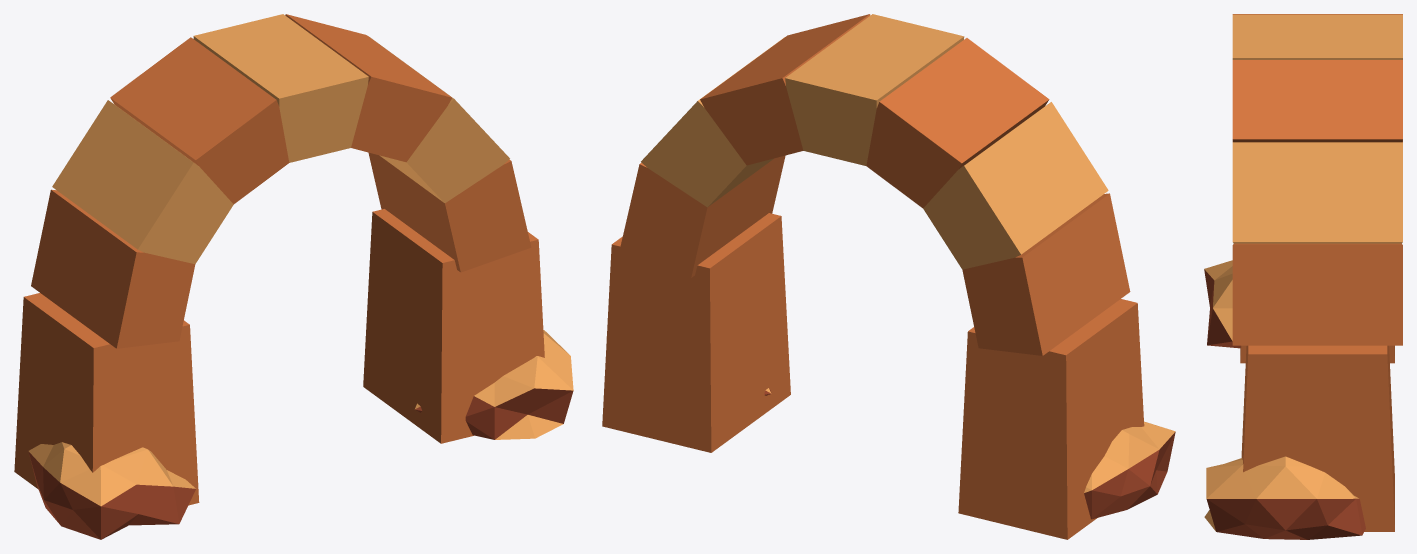
File: CA_Arco_Roca.obj
3 renders of one model, left to right at view 1: azimuth 30°, elevation 25°; view 2: azimuth 150°, elevation 25°; view 3: azimuth 270°, elevation 25°, orthographic. The views are drawn at different scales.
Visible parts, largest first — view 1: CA_Arco_Roca; view 2: CA_Arco_Roca; view 3: CA_Arco_Roca.
Part boxes in pixels (x1,y1,x2,y2): CA_Arco_Roca: (14,14,573,539); CA_Arco_Roca: (602,14,1175,539); CA_Arco_Roca: (1204,14,1402,539).
Size of the model in its own units: 9.18 by 6.6 by 3.08.
